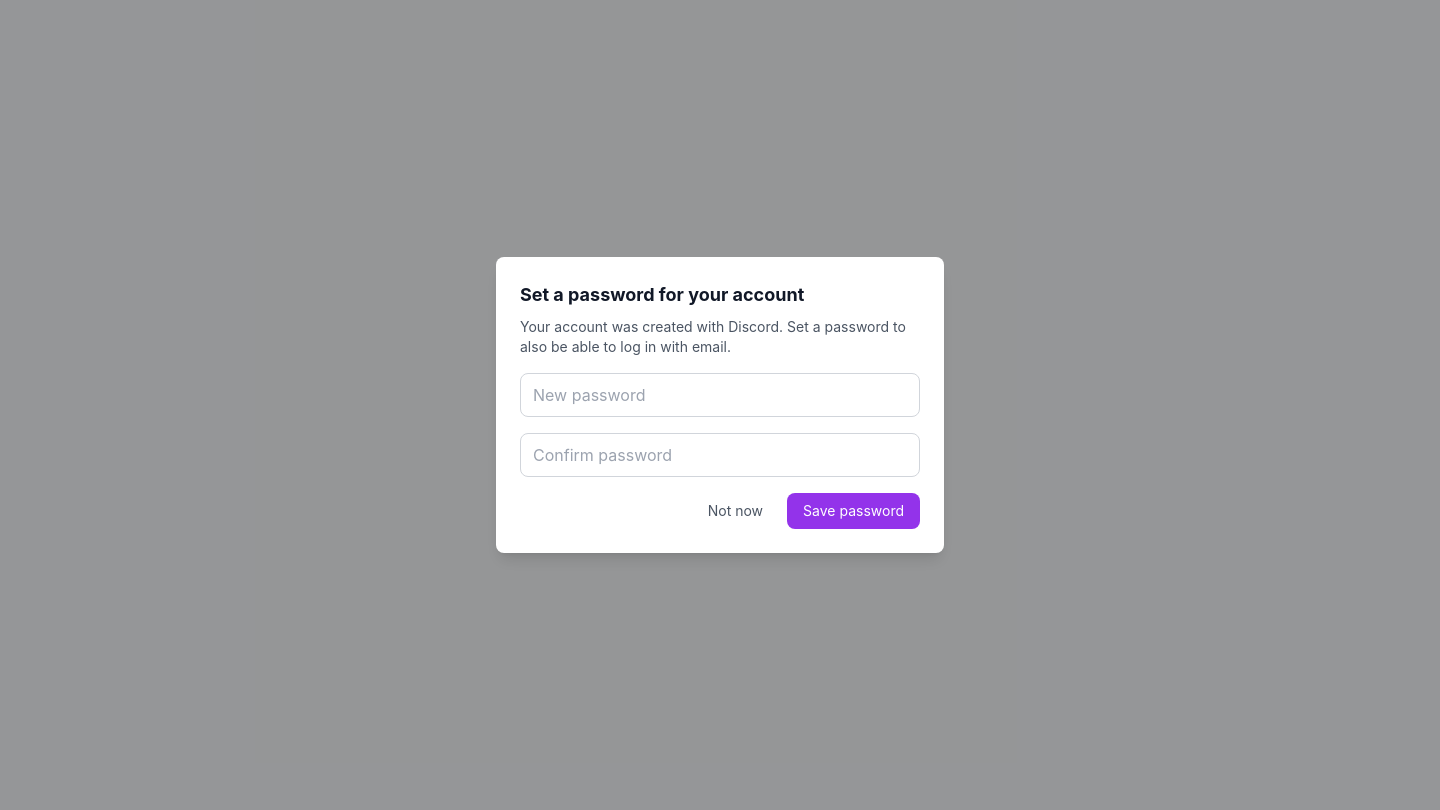
Test: SetPasswordModal › valida senha com comprimento < 8
Type "Short1" into the password field with placeholder "New password" at (720, 395), box [520,373,920,417]
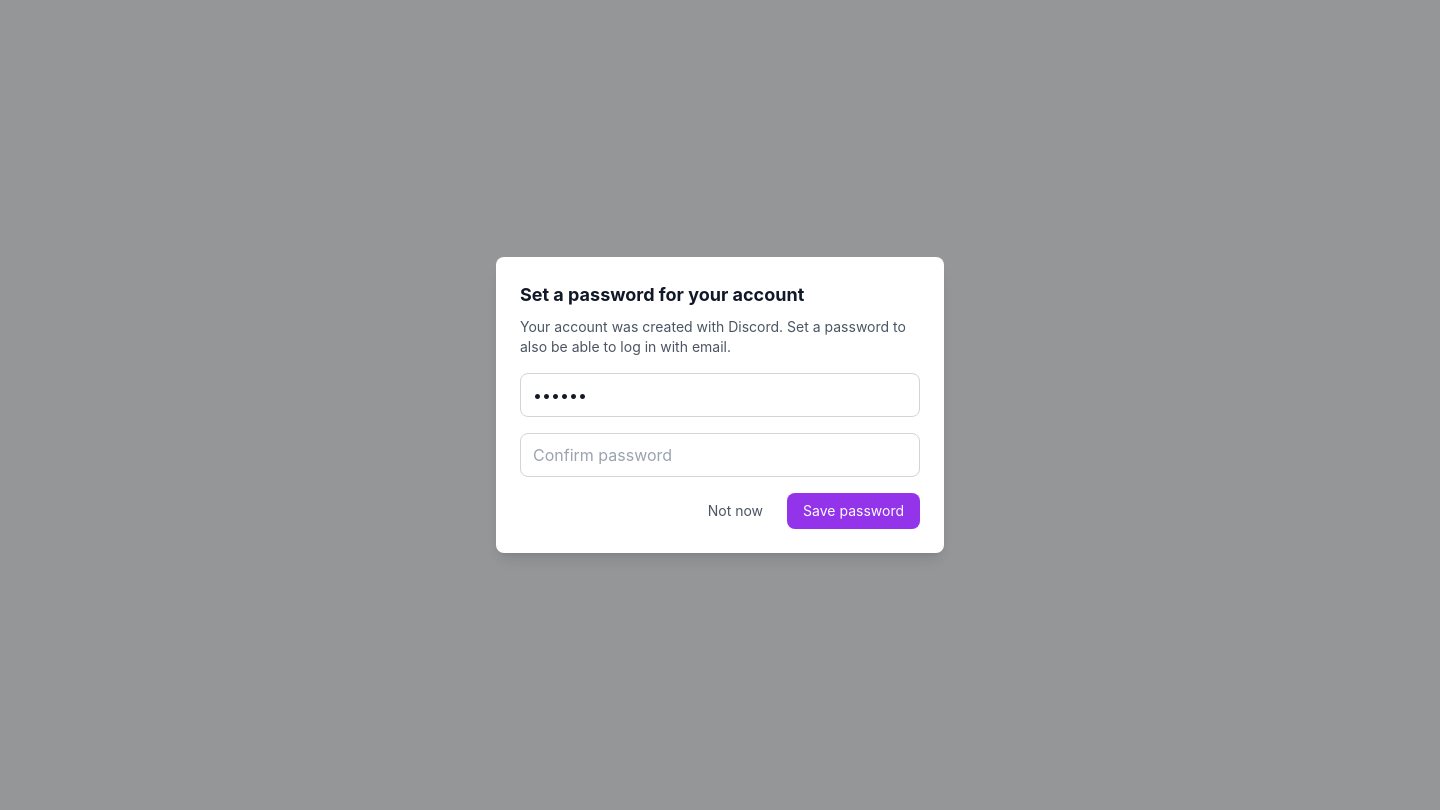
Type "Short1" into the password field with placeholder "Confirm password" at (720, 455), box [520,433,920,477]
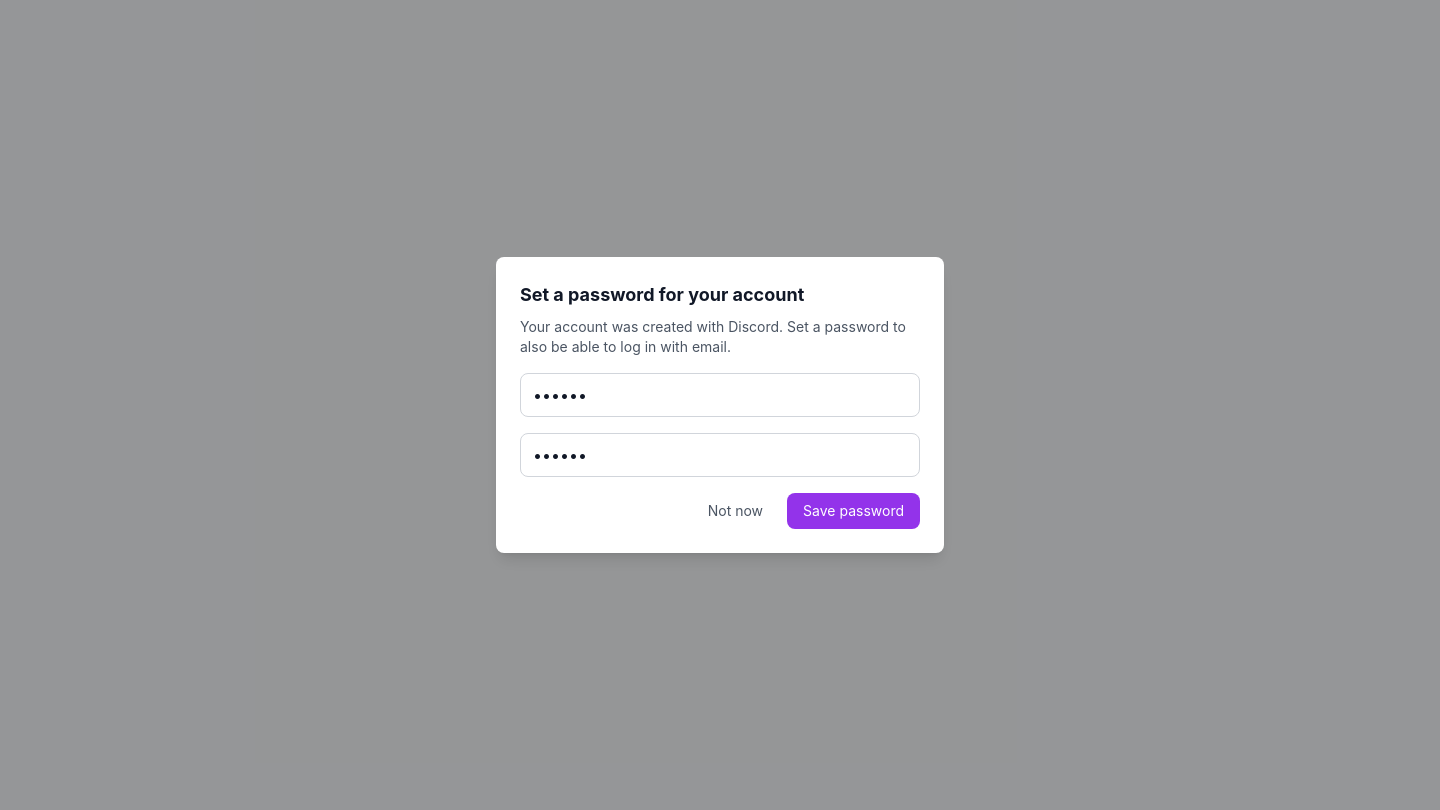
Click the submit button at (854, 511), box [787,493,920,529]
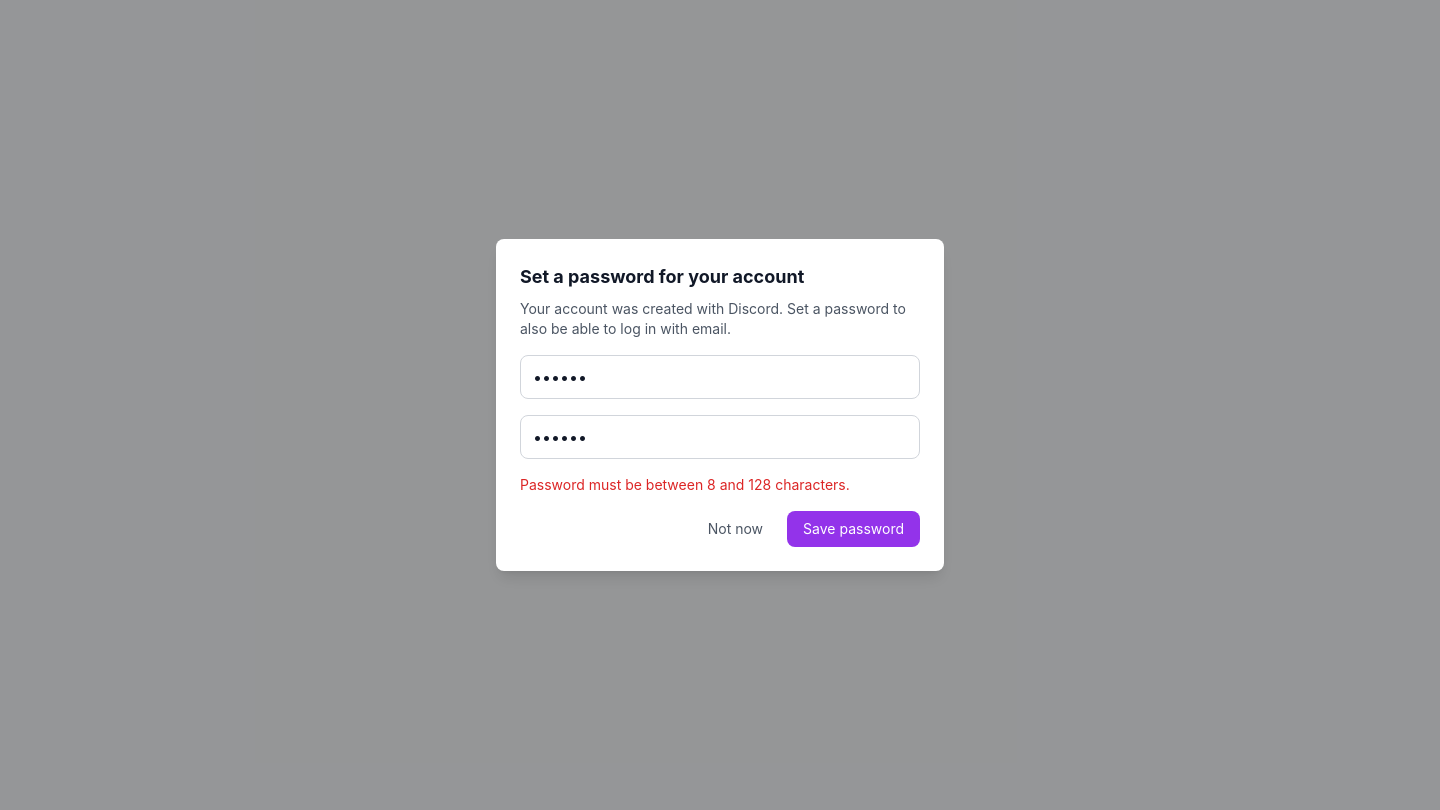
Result: the text "Password must be between 8 and 128 characters." is shown at [520,476,850,493]
